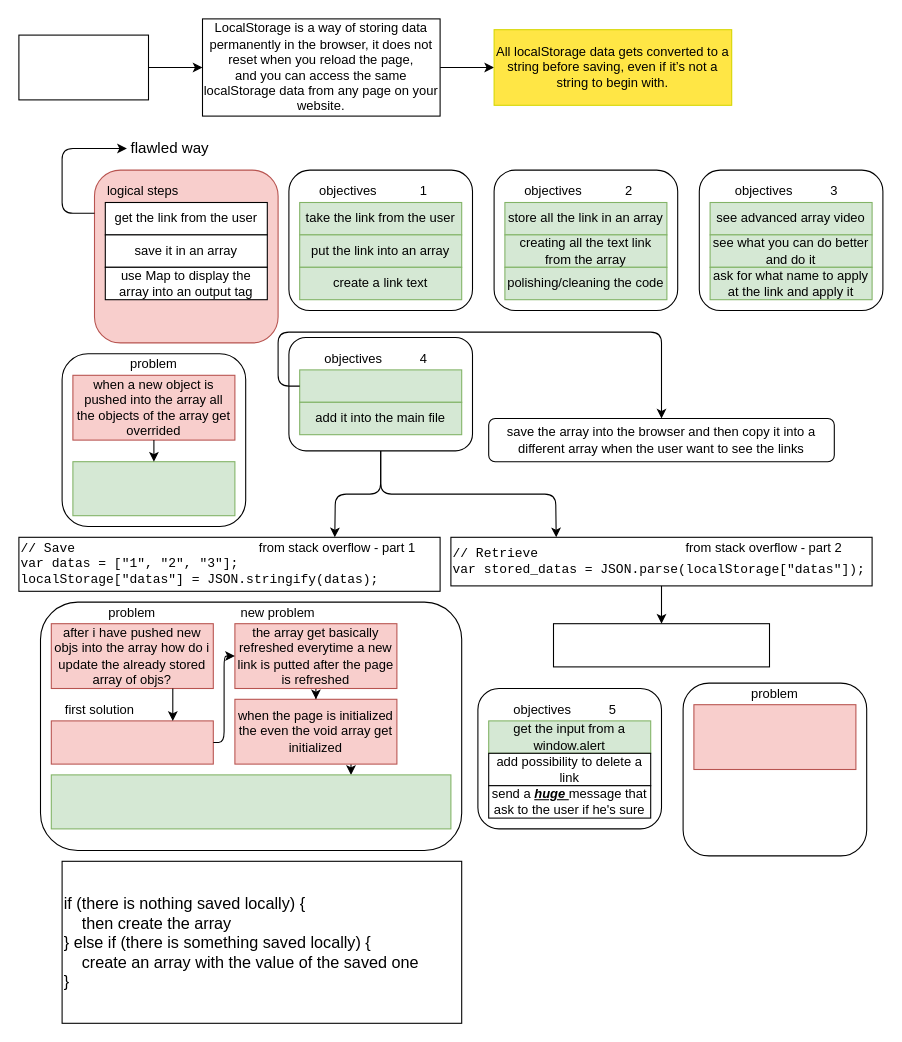
This 902x1042 diagram has some shape labels left out. The shapes that lost their labels are listed below. From the top down, each one's centre as x and y in pixels, then its label:
the point at 83,67: store data into the browser with javascript
the point at 380,385: save the array into the browser
the point at 153,488: creating object in the function that add a link obj to the array
the point at 661,645: console.log(store_data[0]);
the point at 131,742: always updating the array in the function that takes the links
the point at 774,737: when page is refreshed the array void itself
the point at 250,801: const links = [ ] --> const links = JSON.parse(localStorage["links"]);
